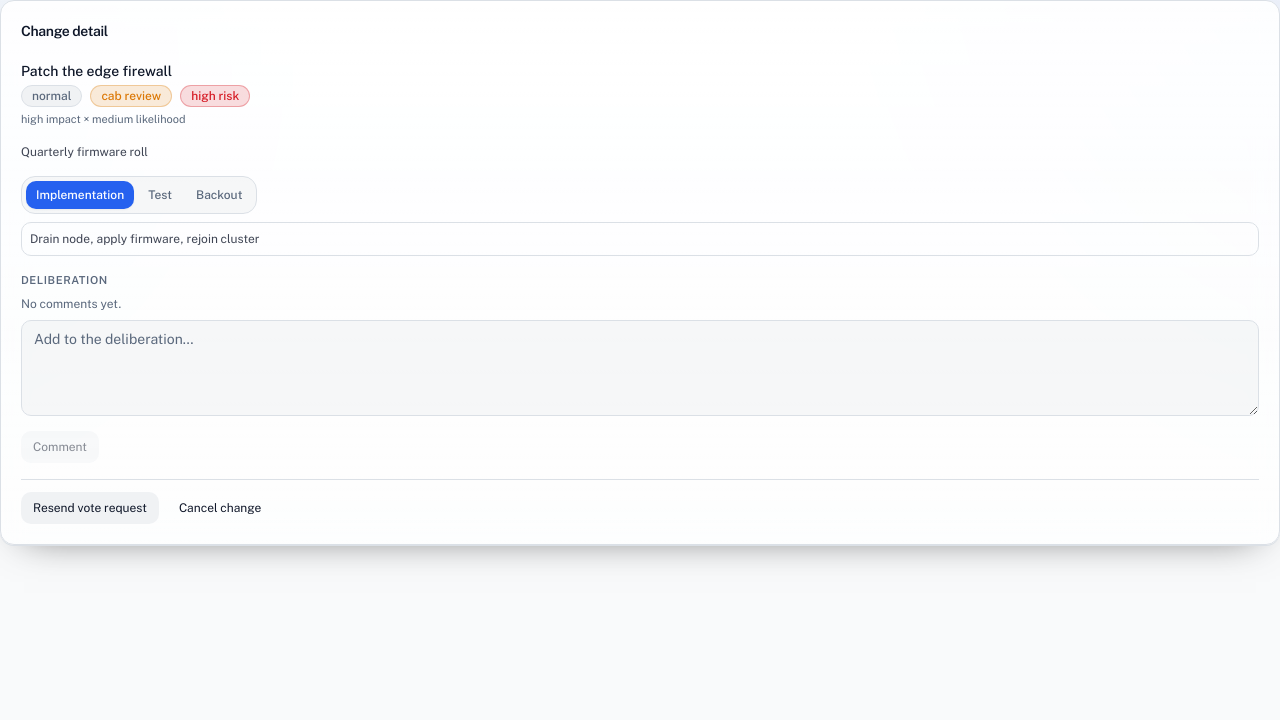
Test: ChangeDetail › lets the raiser resend the vote request while the change is under CAB review
Click the button "Resend vote request". click: (90, 508)
box: [21, 492, 159, 524]
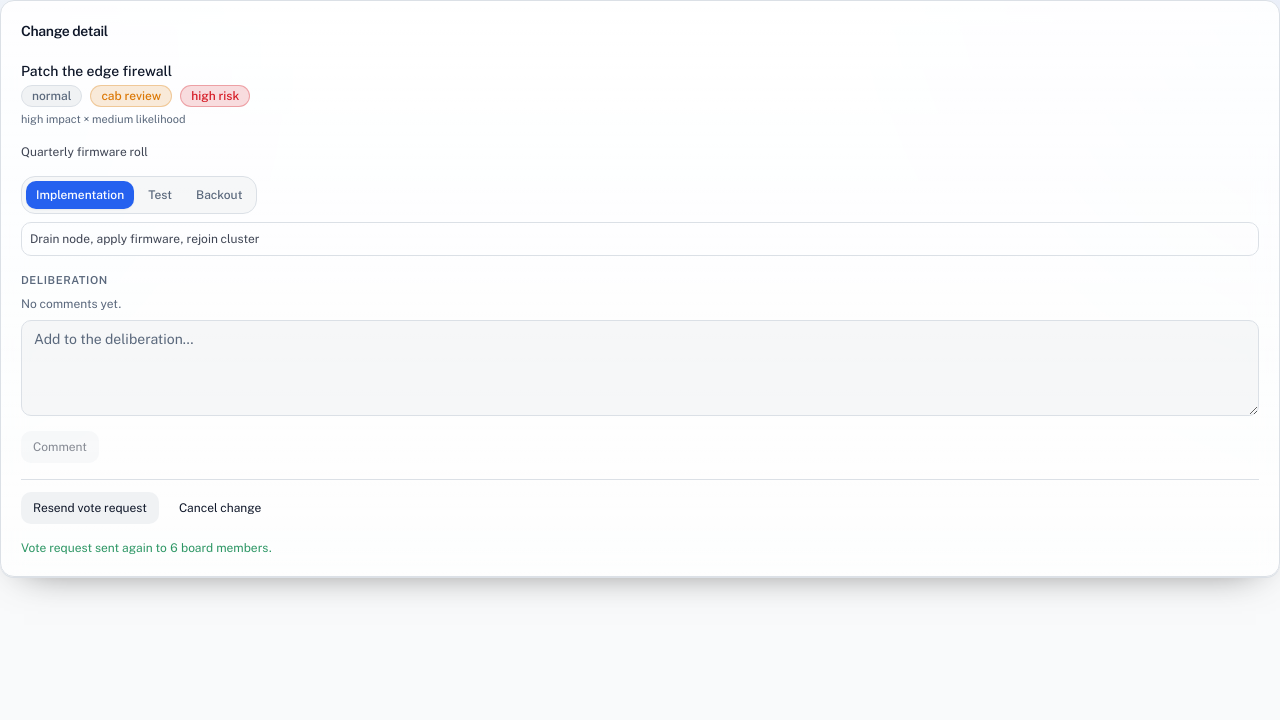
Expected: the text "Vote request sent again to 6 board members." is shown, [21, 541, 272, 555]
